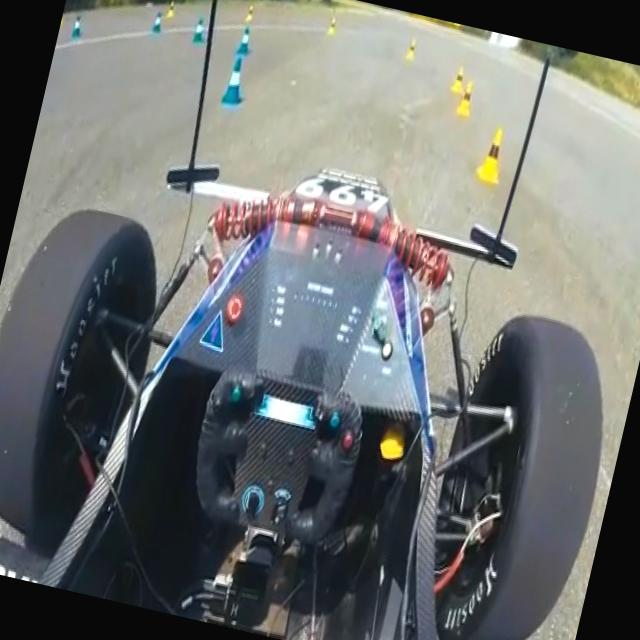blue_cone: (220, 56, 252, 108), (236, 24, 254, 57), (192, 15, 208, 46), (70, 9, 84, 42), (151, 6, 164, 34)
yellow_cone: (472, 124, 510, 185), (454, 78, 480, 119), (448, 65, 468, 95)
